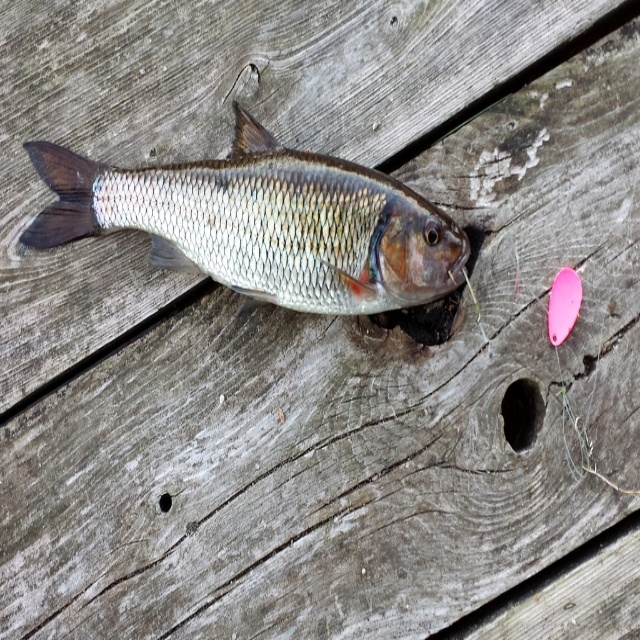Fish: (19, 82, 471, 336)
